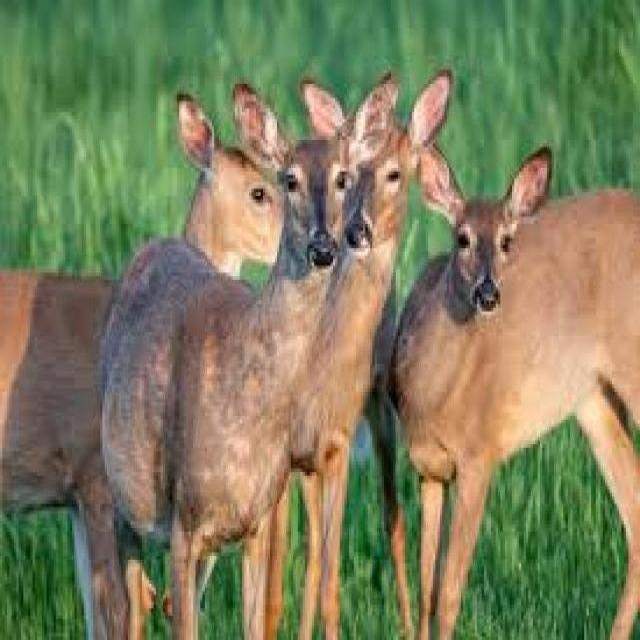deer: (4, 86, 281, 640), (106, 82, 380, 638), (402, 138, 640, 603), (302, 72, 422, 544)
